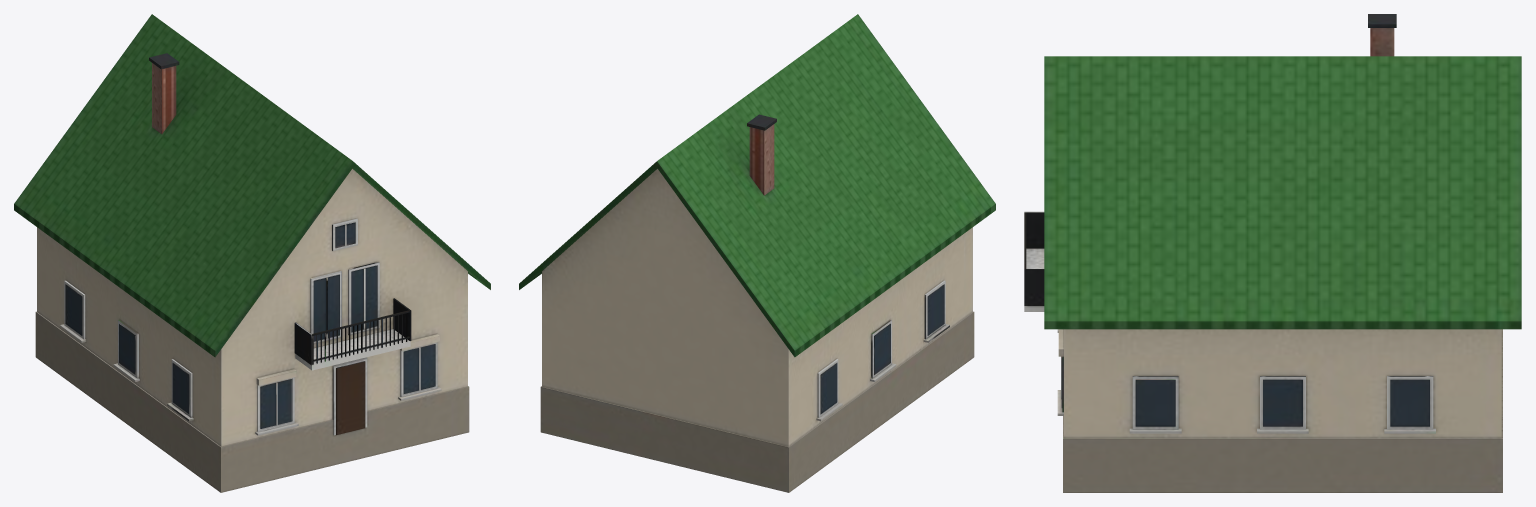
File: dom_w161.glb
3 renders of one model, left to right at view 1: azimuth 30°, elevation 25°; view 2: azimuth 150°, elevation 25°; view 3: azimuth 270°, elevation 25°, orthographic. The views are drawn at different scales.
Visible parts, largest first — view 1: dom_w161; view 2: dom_w161; view 3: dom_w161.
Boxes of the visible parts, x1=… form: dom_w161: x1=14, y1=14, x2=490, y2=492; dom_w161: x1=519, y1=14, x2=995, y2=492; dom_w161: x1=1024, y1=14, x2=1521, y2=492.
Size of the model in its own units: 9.5 by 10.4 by 12.5.
1 material, 1 textured.
